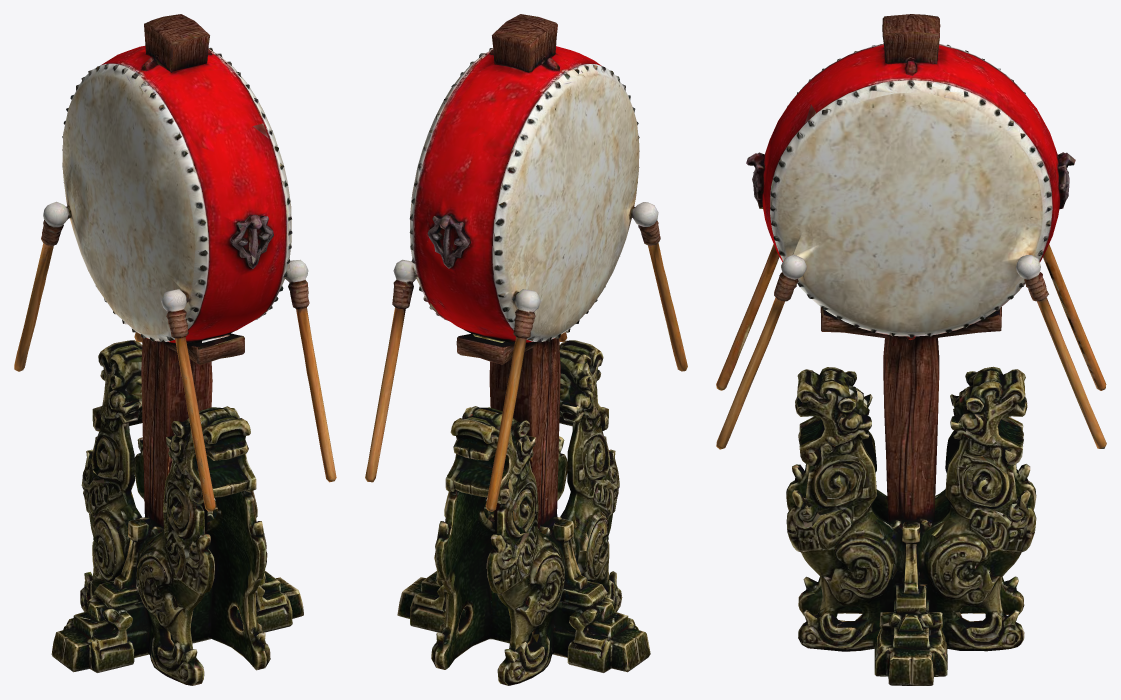
The model's file is drum.glb.
The picture shows the model from 3 angles, left to right: view 1: azimuth 30°, elevation 25°; view 2: azimuth 150°, elevation 25°; view 3: azimuth 270°, elevation 25°; orthographic projection.
Visible parts, largest first — view 1: drum; view 2: drum; view 3: drum.
Part boxes in pixels (bbox=[...]): drum: bbox=[14, 14, 336, 685]; drum: bbox=[365, 14, 687, 685]; drum: bbox=[716, 14, 1106, 685].
Bounding box in the file's own units: 0.3958 × 1 × 0.5823.
Materials: 1 (1 with a texture image).
